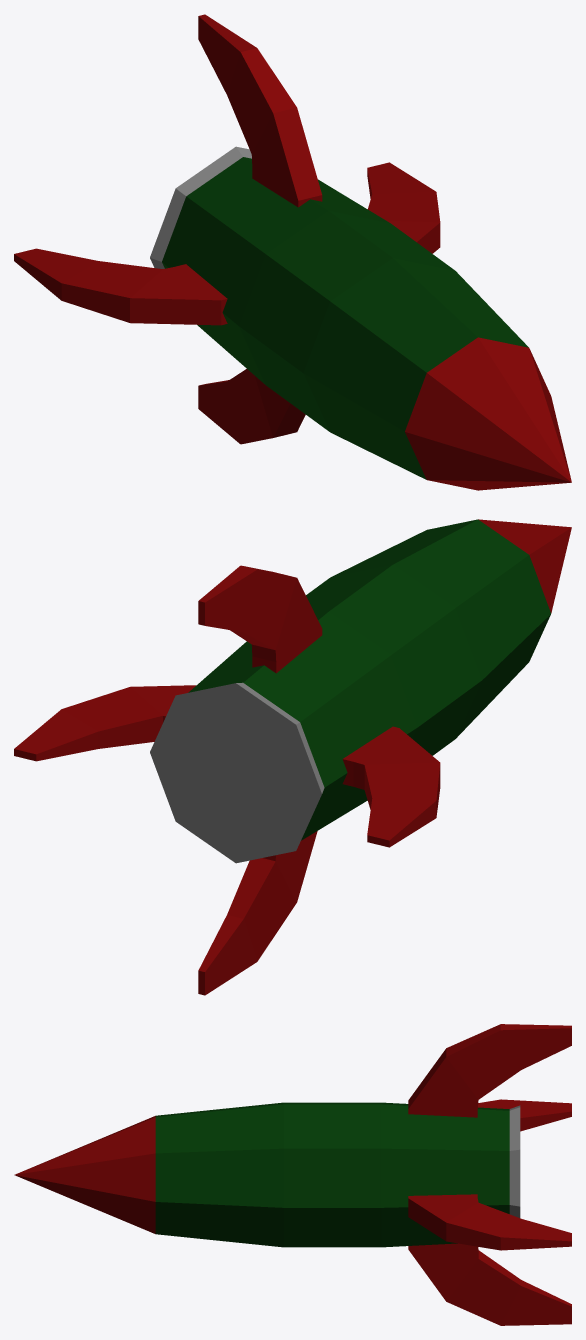
File: rocket2.fbx
3 views of the same model, one above another, from view 1: azimuth 30°, elevation 25°; view 2: azimuth 150°, elevation 25°; view 3: azimuth 270°, elevation 25° (orthographic). The views are drawn at different scales.
Parts seen in each view (by area): view 1: Cube.002; view 2: Cube.002; view 3: Cube.002.
Boxes of the visible parts, x1,y1,x2,y2 form: Cube.002: [14, 14, 571, 490]; Cube.002: [14, 519, 571, 995]; Cube.002: [14, 1024, 571, 1325].
Bounding box in the file's own units: 462 × 462 × 788.
